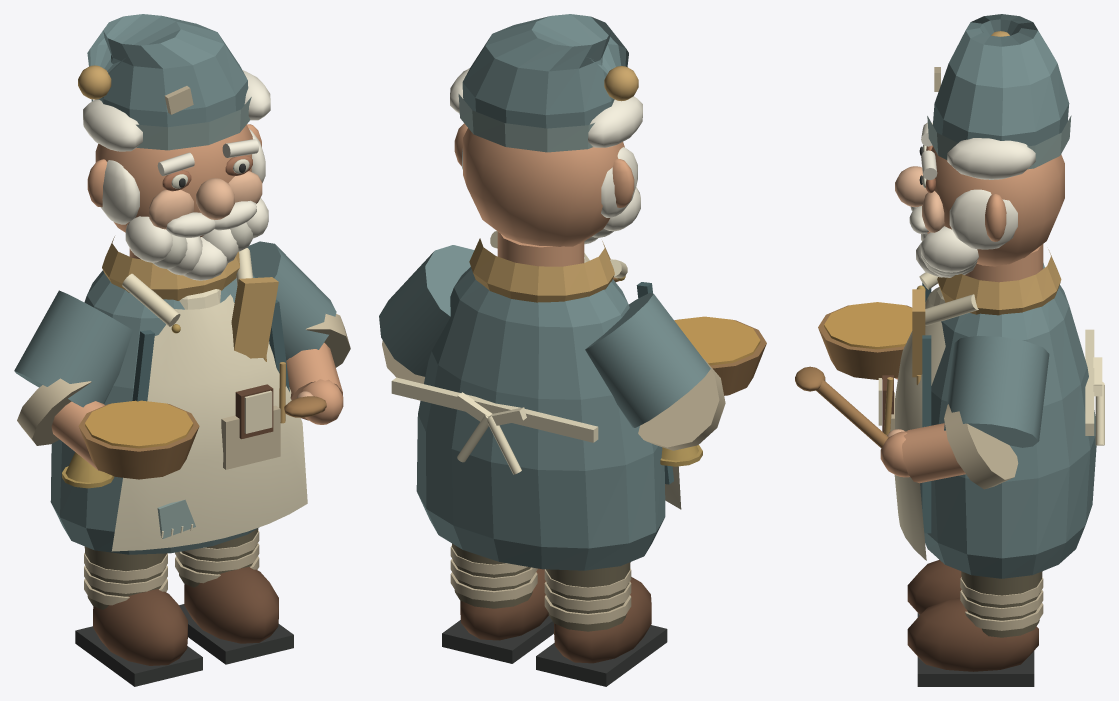
File: kendeqi.glb
3 views of the same model, side by side, from view 1: azimuth 30°, elevation 25°; view 2: azimuth 150°, elevation 25°; view 3: azimuth 270°, elevation 25° (orthographic). The views are drawn at different scales.
Visible parts, largest first — view 1: ApronTailoredPanel, SoftCap, WoolCoat, CoatUpperSleeve, SnowBoot, _MeshInstance3D_6, CoatUpperSleeve2, Face, SoupSurface, SoupBowl, WoolScarf, ScarfLooseEnd (+45 smaller); view 2: WoolCoat, SoftCap, Face, CoatUpperSleeve, CoatUpperSleeve2, WoolScarf, RolledLinenCuff, SnowBoot, CapFoldedBrim, _MeshInstance3D_6, BackWaistTie, BootSole (+18 smaller); view 3: WoolCoat, SoftCap, CoatUpperSleeve2, Face, _MeshInstance3D_6, ApronTailoredPanel, WoolScarf, SoupSurface, RolledLinenCuff2, _MeshInstance3D_33, Forearm2, _MeshInstance3D_32 (+21 smaller).
Part boxes in pixels (x1,y1,x2,y2): ApronTailoredPanel: [111, 294, 307, 551]; SoftCap: [87, 14, 248, 127]; WoolCoat: [50, 270, 258, 554]; CoatUpperSleeve: [14, 290, 132, 407]; SnowBoot: [93, 589, 187, 665]; _MeshInstance3D_6: [184, 567, 278, 643]; CoatUpperSleeve2: [247, 241, 336, 360]; Face: [95, 124, 252, 237]; SoupSurface: [85, 400, 193, 448]; SoupBowl: [78, 403, 199, 479]; WoolScarf: [102, 236, 239, 300]; ScarfLooseEnd: [231, 277, 278, 358]; WoolCoat: [416, 267, 665, 570]; SoftCap: [462, 14, 628, 128]; Face: [463, 128, 624, 246]; CoatUpperSleeve: [585, 293, 710, 427]; CoatUpperSleeve2: [379, 245, 474, 376]; WoolScarf: [469, 238, 614, 302]; RolledLinenCuff: [638, 359, 725, 450]; SnowBoot: [554, 577, 651, 663]; CapFoldedBrim: [458, 94, 594, 152]; _MeshInstance3D_6: [460, 568, 548, 640]; BackWaistTie: [391, 377, 598, 442]; BootSole: [536, 625, 667, 686]; WoolCoat: [920, 285, 1096, 578]; SoftCap: [933, 14, 1069, 146]; CoatUpperSleeve2: [944, 335, 1049, 447]; Face: [931, 146, 1064, 266]; _MeshInstance3D_6: [907, 597, 1038, 671]; ApronTailoredPanel: [894, 287, 945, 560]; WoolScarf: [937, 249, 1061, 315]; SoupSurface: [824, 302, 912, 349]; RolledLinenCuff2: [944, 404, 1018, 489]; _MeshInstance3D_33: [947, 138, 1035, 179]; Forearm2: [902, 423, 965, 483]; _MeshInstance3D_32: [949, 189, 1017, 249].
Size of the model in its own units: 1.41 by 2.59 by 1.2.
